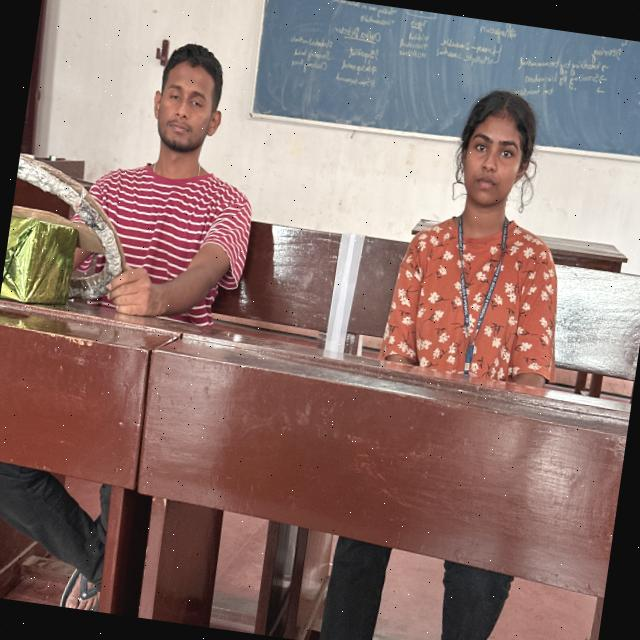Helmet: (384, 204, 568, 376), (58, 152, 254, 312)
